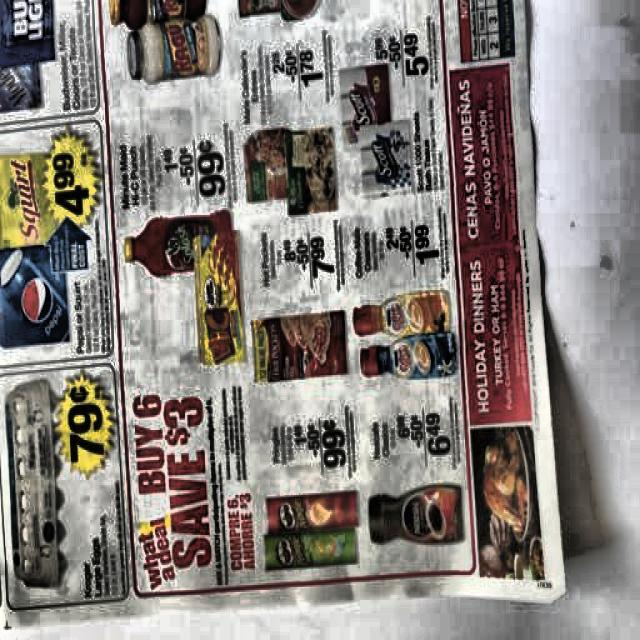paper: (3, 3, 570, 613)
